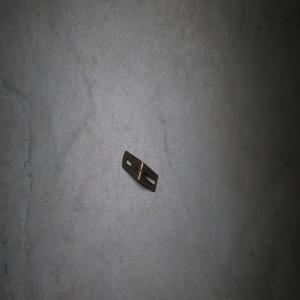MetalPart: (121, 149, 159, 193)
